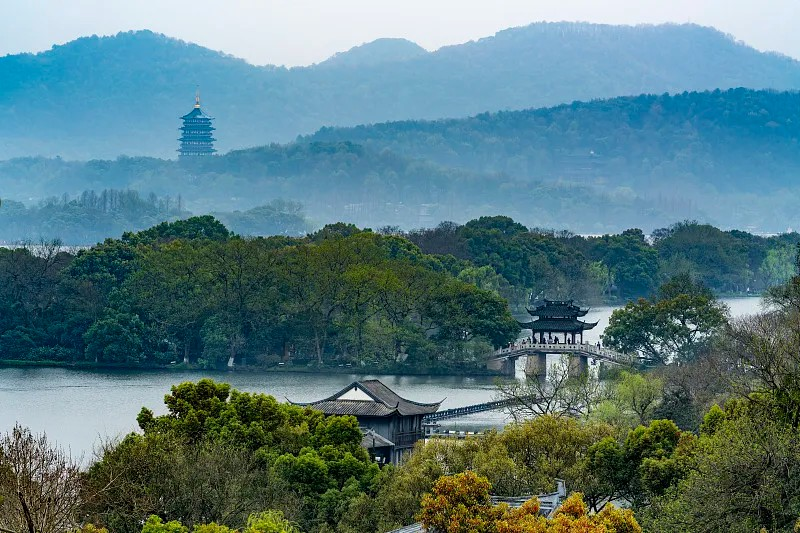Leifeng: (175, 85, 219, 159)
